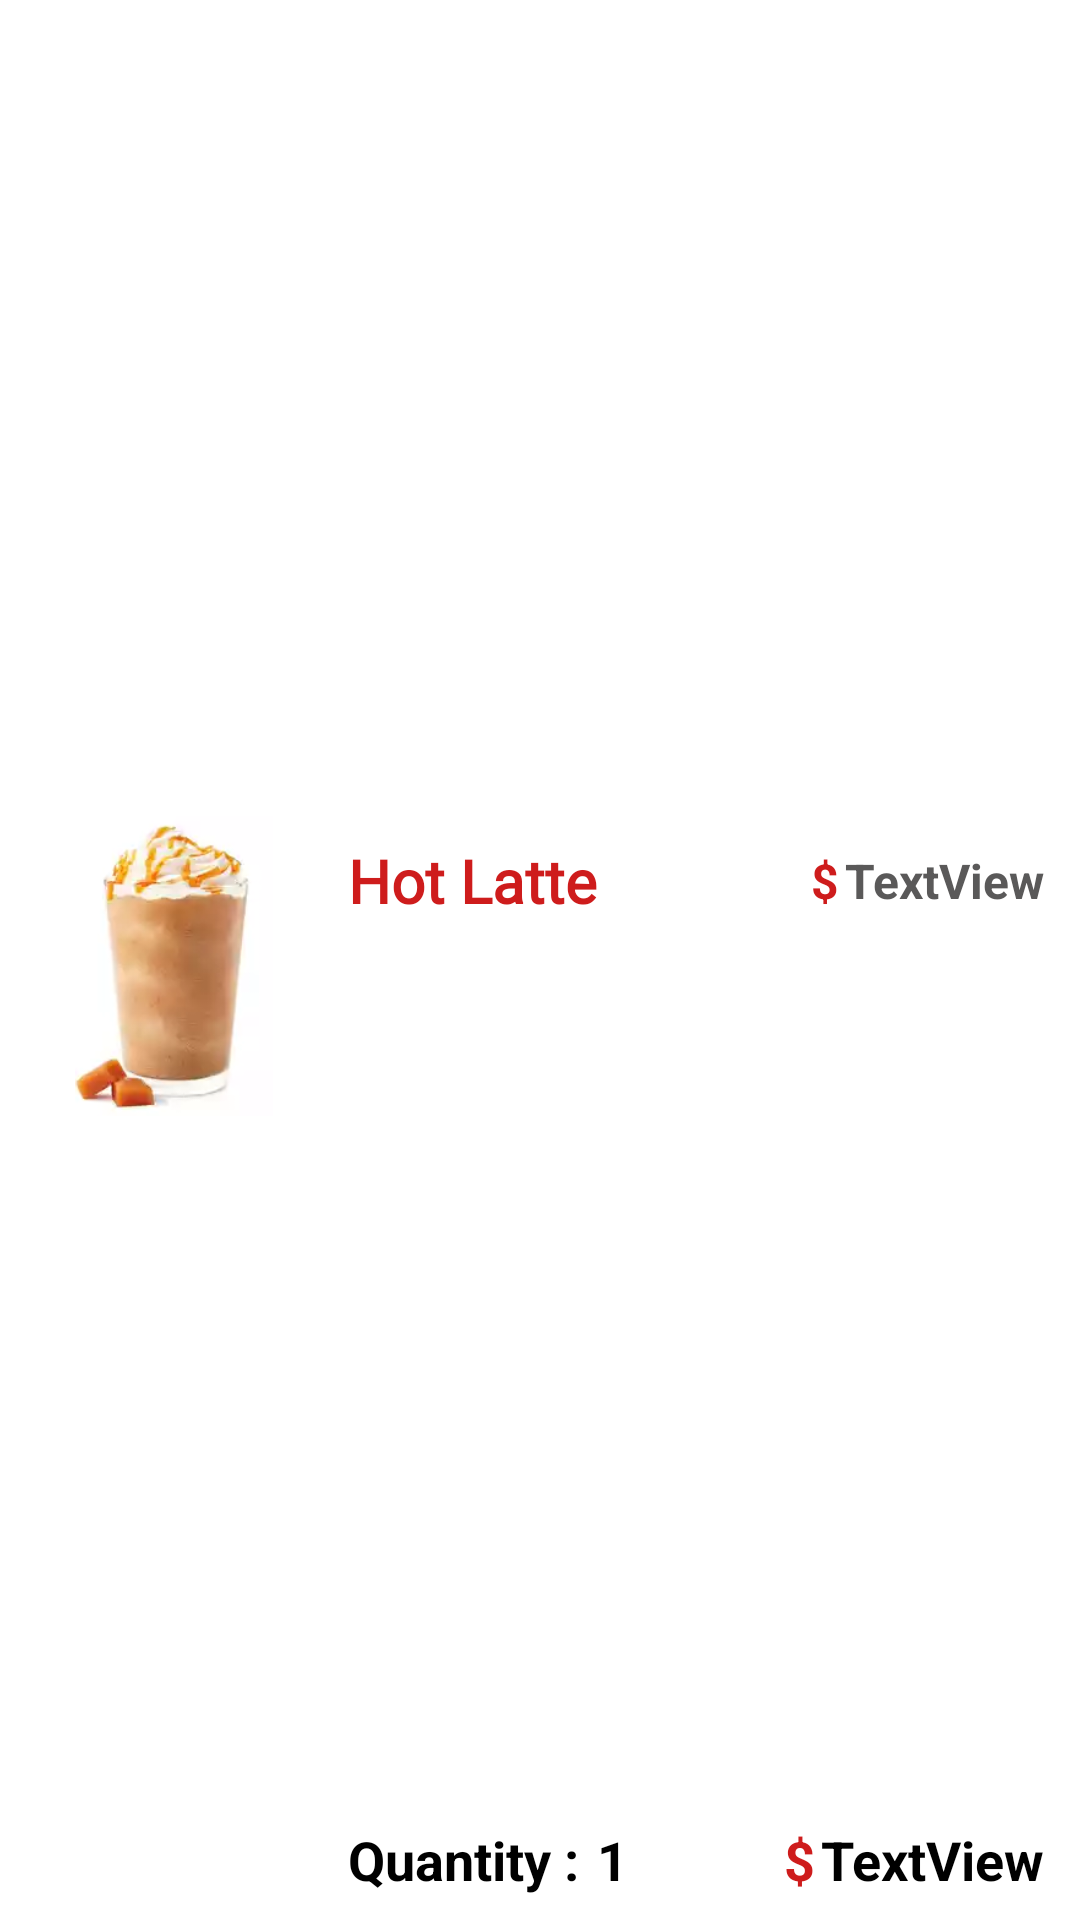

Icon click points for this 1080x1920 phone screenshot, format (x,y):
caramel iced capp: (161,967)
